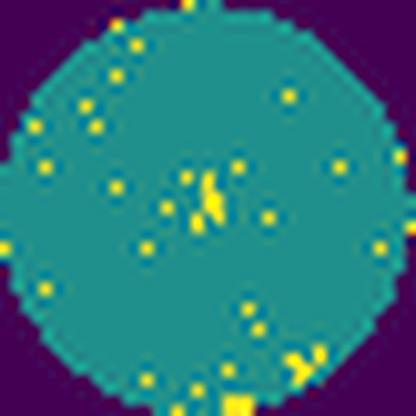Center: (197, 171, 230, 231)
